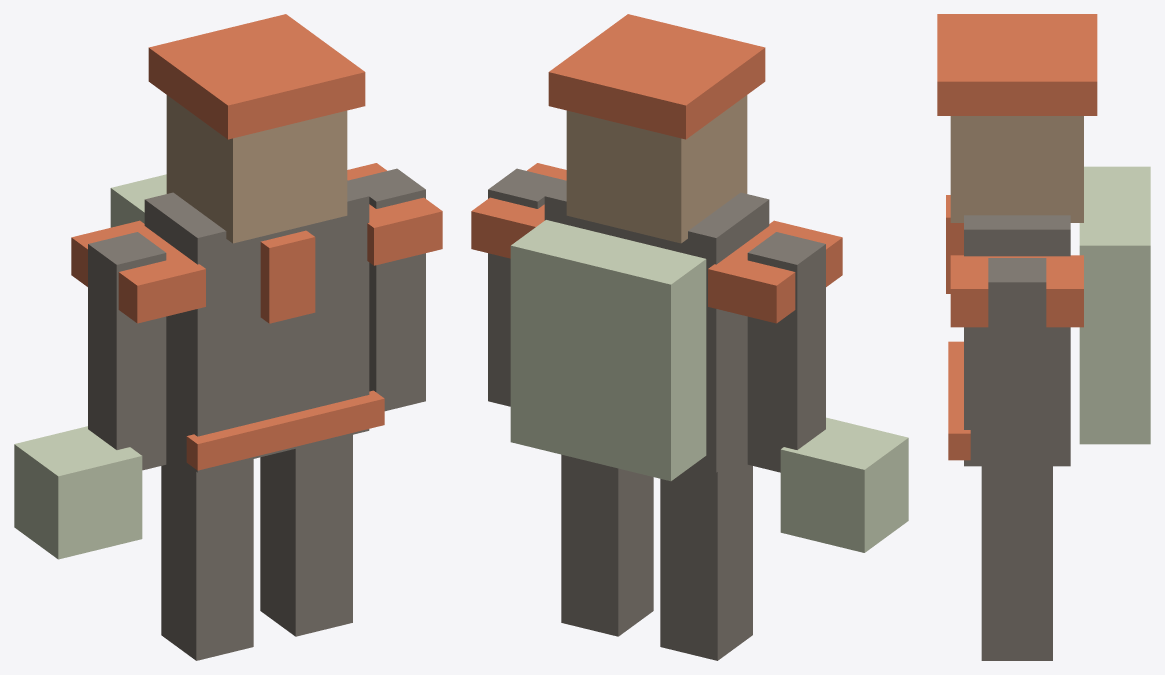
Rendered from 03_ossa_cinderholt_ranger_of_pronunciation.glb.
3 renders of one model, left to right at view 1: azimuth 30°, elevation 25°; view 2: azimuth 150°, elevation 25°; view 3: azimuth 270°, elevation 25°, orthographic.
Visible parts, largest first — view 1: Ossa Cinderholt, Ranger of Pronunciation; view 2: Ossa Cinderholt, Ranger of Pronunciation; view 3: Ossa Cinderholt, Ranger of Pronunciation.
Boxes of the visible parts, x1,y1,x2,y2 form: Ossa Cinderholt, Ranger of Pronunciation: [14, 14, 442, 660]; Ossa Cinderholt, Ranger of Pronunciation: [471, 14, 908, 660]; Ossa Cinderholt, Ranger of Pronunciation: [937, 14, 1150, 660].
Bounding box in the file's own units: 1.02 × 1.46 × 0.4903.
